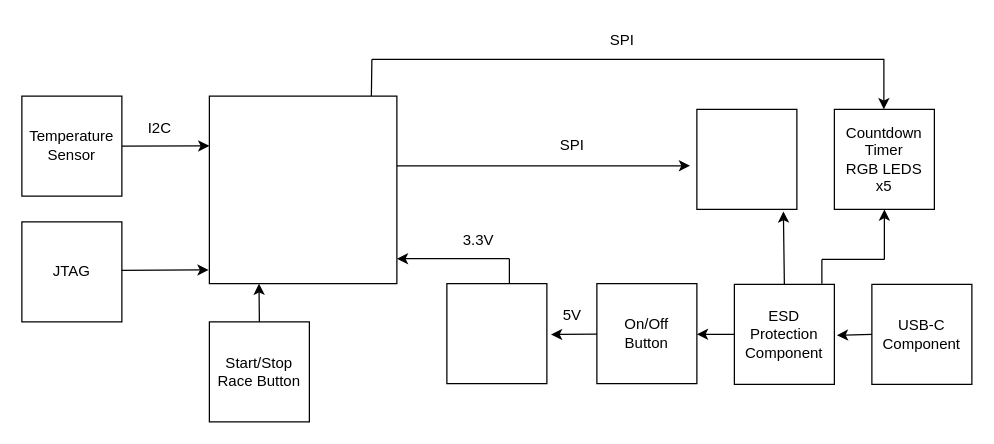
Some shapes in this 994 by 444 pixel diagram are drawn without their labels. Each missing label, with the centre of its shape:
ESP32-C3-MINI-1: (x=302, y=189)
RGB LEDS X 124: (x=746, y=158)
Step-Down Voltage Regulator to 3.3V: (x=496, y=333)
